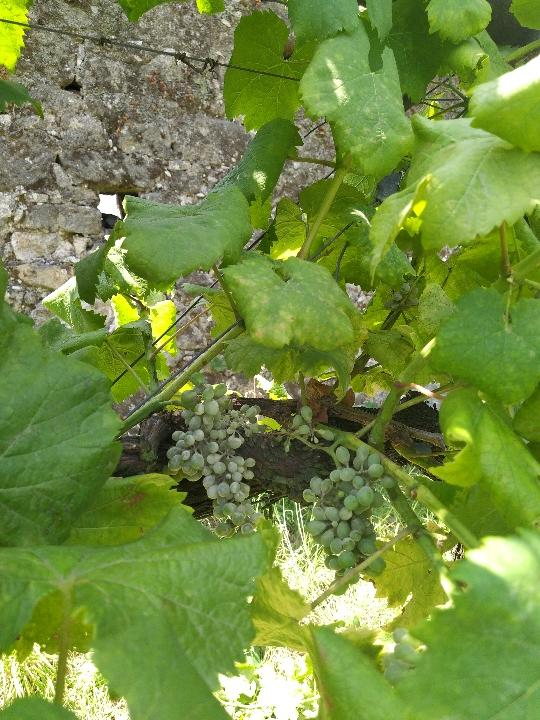grape: (162, 384, 263, 535), (302, 443, 399, 598)
